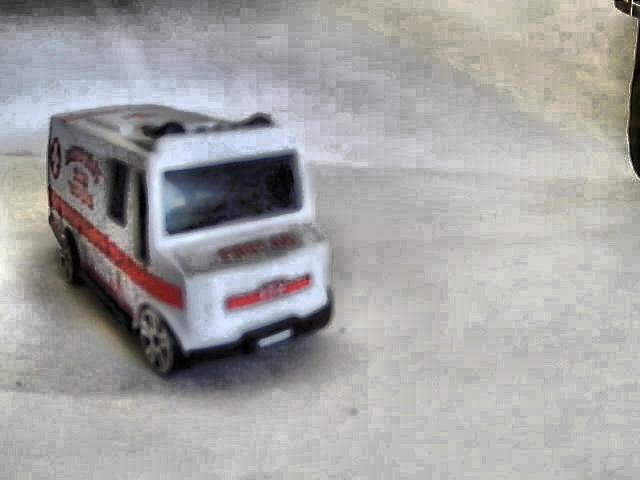ambulance: (45, 102, 333, 377)
